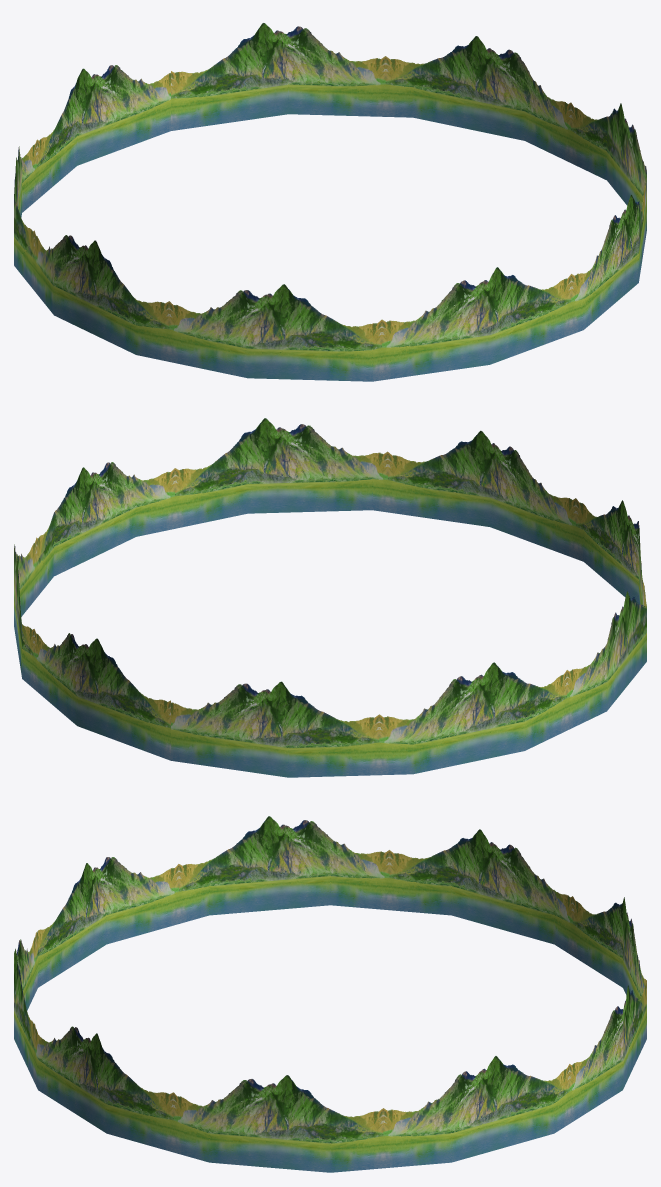
The model's file is Mountains.FBX.
The picture shows the model from 3 angles, top to bottom: view 1: azimuth 30°, elevation 25°; view 2: azimuth 150°, elevation 25°; view 3: azimuth 270°, elevation 25°; orthographic projection.
Parts seen in each view (by area): view 1: Mountains; view 2: Mountains; view 3: Mountains.
Part boxes in pixels (x1=…): Mountains: x1=14, y1=23, x2=646, y2=381; Mountains: x1=14, y1=418, x2=646, y2=777; Mountains: x1=14, y1=816, x2=646, y2=1172.
Bounding box in the file's own units: 486 × 84.01 × 486.
